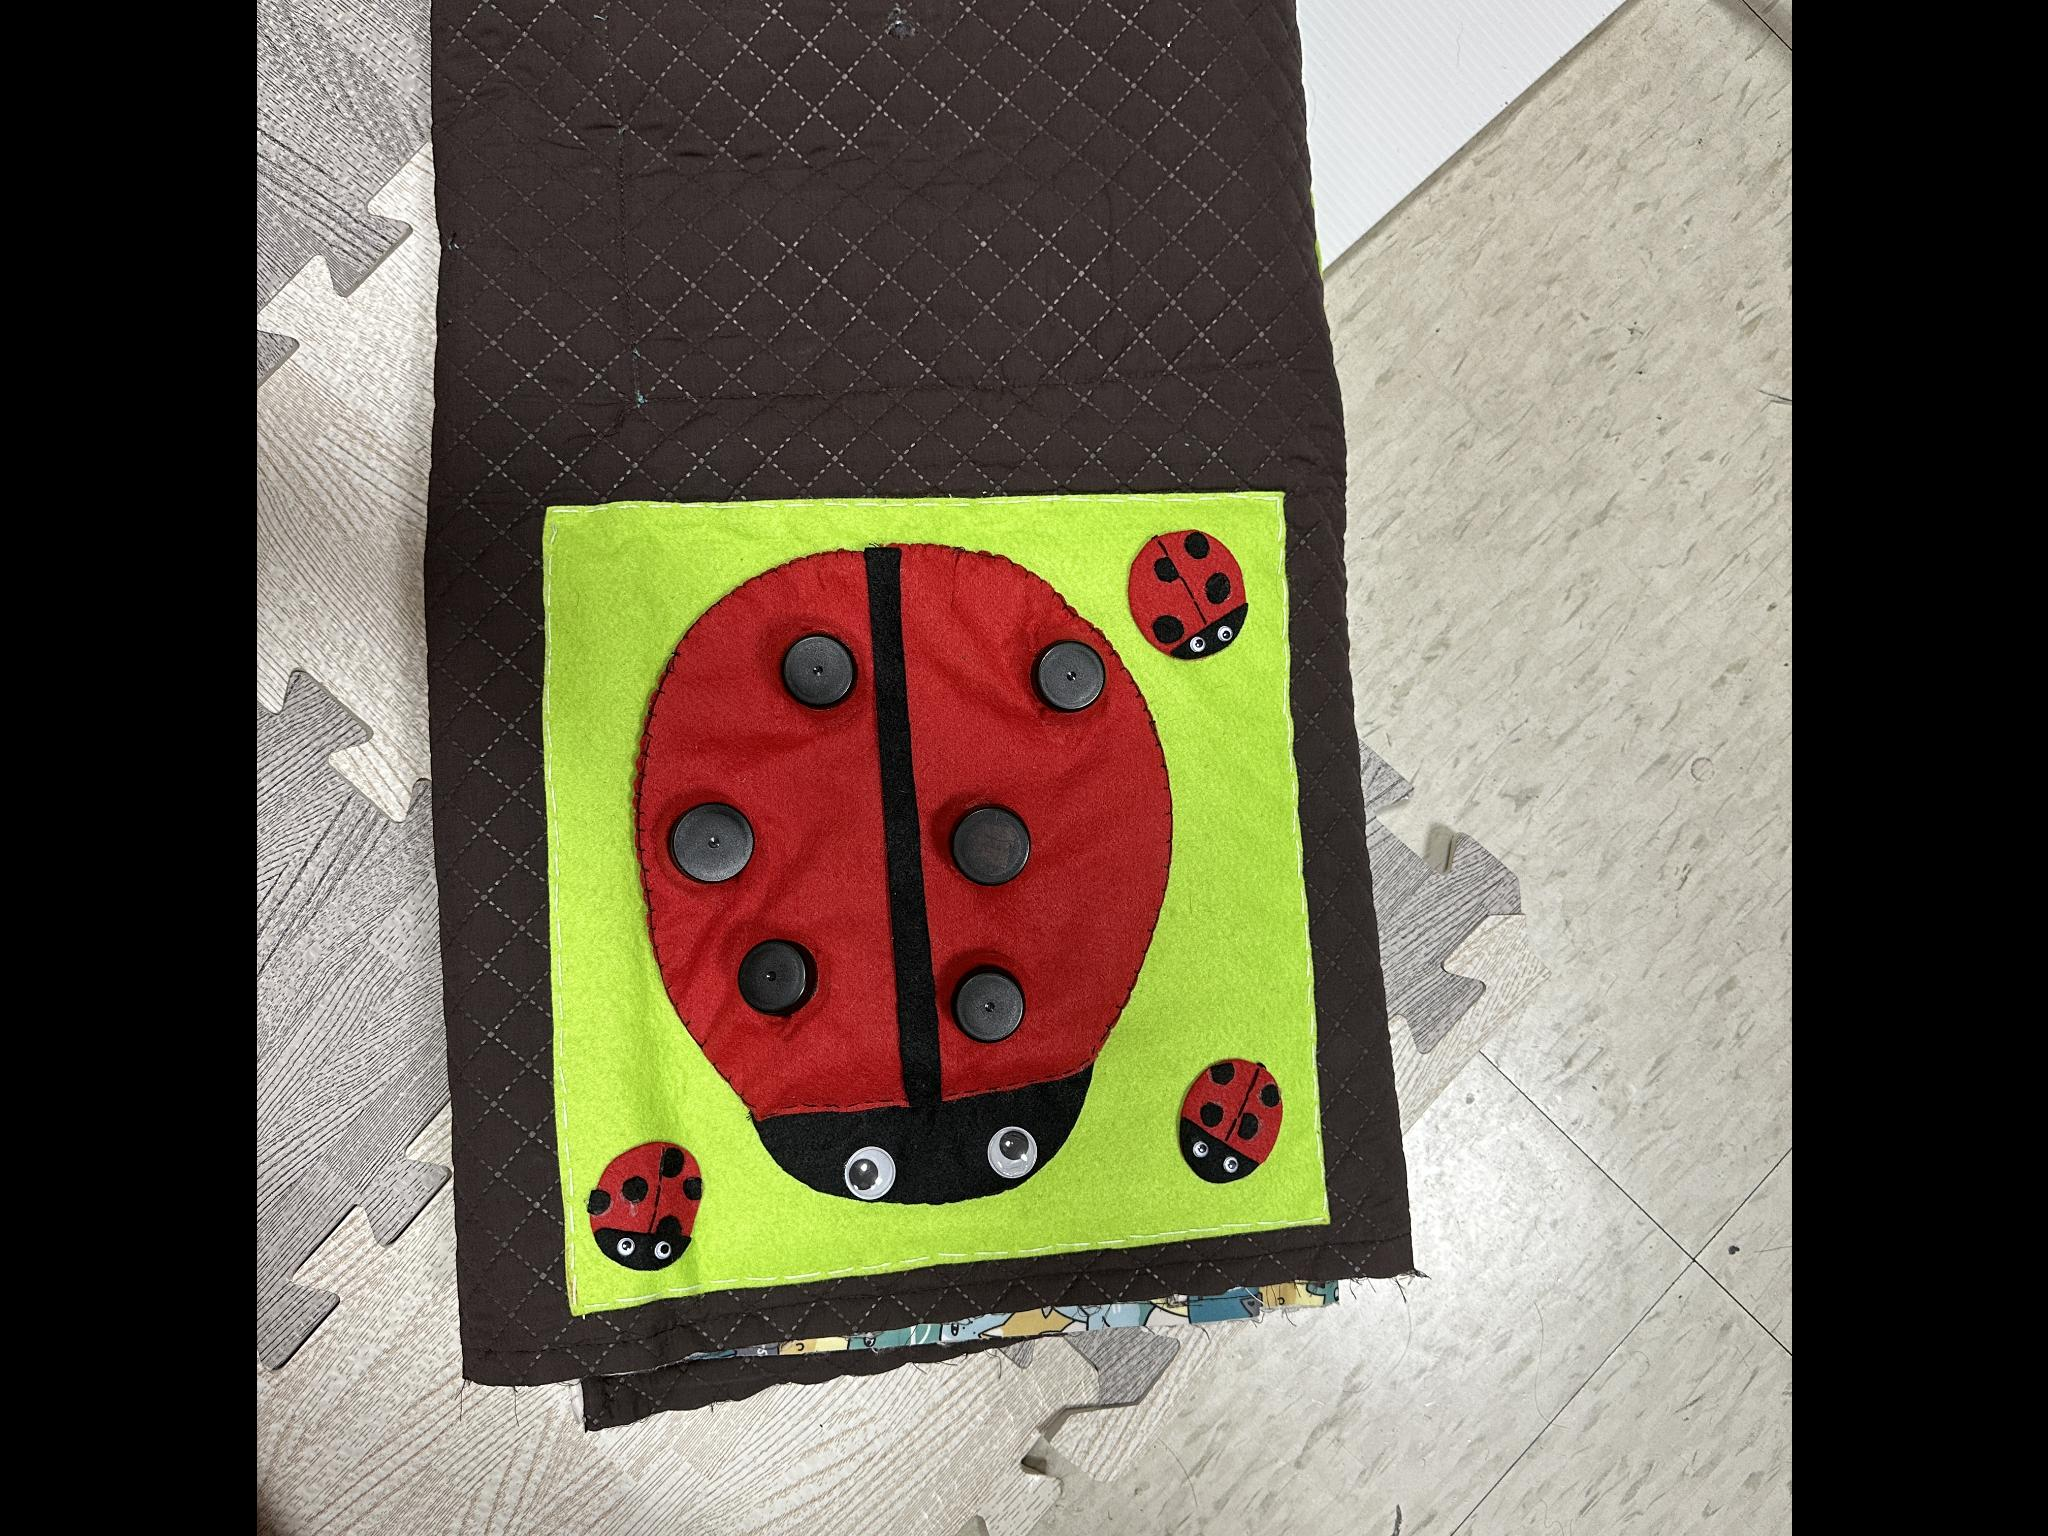cap_ok: (655, 763, 766, 915), (940, 778, 1035, 907), (724, 921, 832, 1033), (940, 941, 1042, 1058), (774, 620, 874, 726), (1027, 624, 1119, 721)
